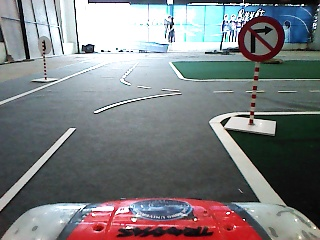ban_right: (237, 17, 287, 62)
